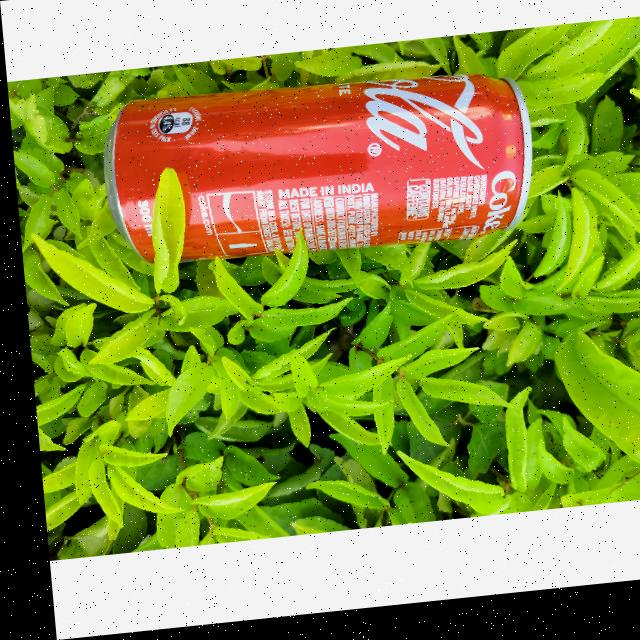Coca Cola: (92, 60, 530, 287)
